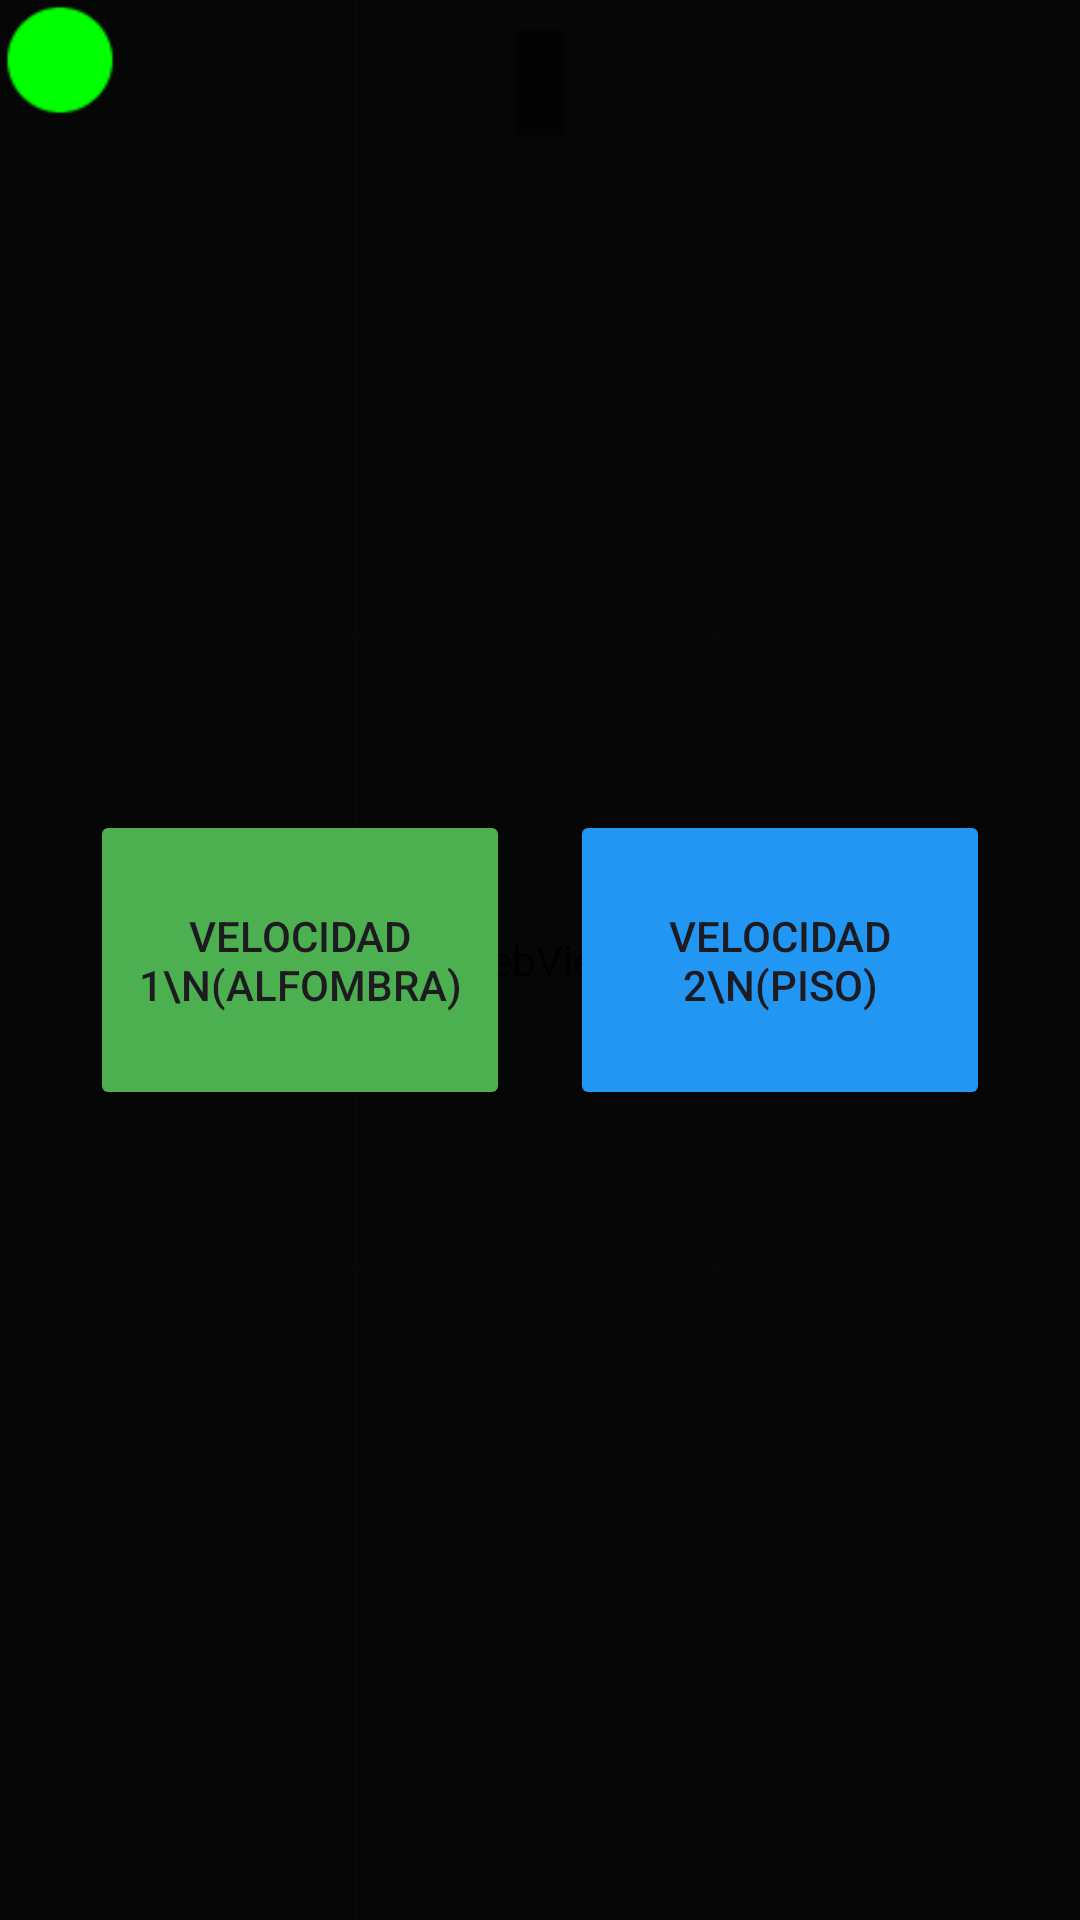

Icon bounding boxes for this 1080w x 1920h phone screenshot, format (x1, y1, x2, y2):
presence online: (7, 6, 113, 114)
